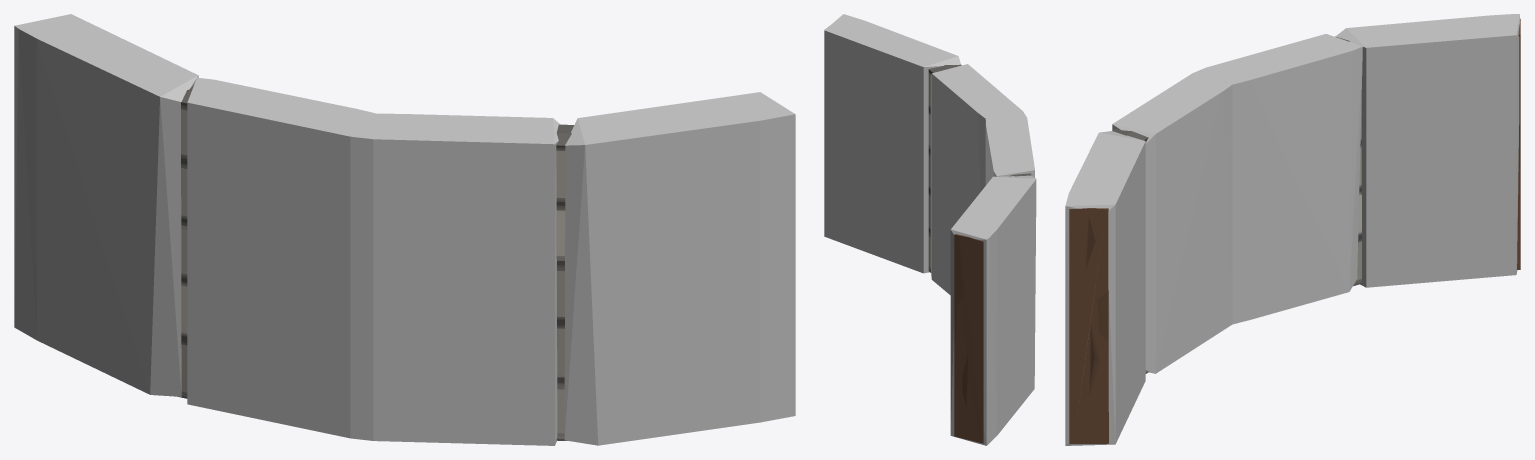
File: SM_Bld_Wall_Curved_Half_01.fbx
The picture shows the model from 3 angles, left to right: view 1: azimuth 30°, elevation 25°; view 2: azimuth 150°, elevation 25°; view 3: azimuth 270°, elevation 25°; orthographic projection. The views are drawn at different scales.
Parts seen in each view (by area): view 1: SM_Bld_Wall_Curved_Half_01_ConvexHulls, SM_Bld_Wall_Curved_Half_01; view 2: SM_Bld_Wall_Curved_Half_01_ConvexHulls, SM_Bld_Wall_Curved_Half_01; view 3: SM_Bld_Wall_Curved_Half_01_ConvexHulls, SM_Bld_Wall_Curved_Half_01.
Boxes of the visible parts, bbox=[...] form: SM_Bld_Wall_Curved_Half_01_ConvexHulls: bbox=[14, 14, 795, 445]; SM_Bld_Wall_Curved_Half_01: bbox=[178, 84, 574, 440]; SM_Bld_Wall_Curved_Half_01_ConvexHulls: bbox=[824, 14, 1036, 445]; SM_Bld_Wall_Curved_Half_01: bbox=[825, 28, 1031, 443]; SM_Bld_Wall_Curved_Half_01_ConvexHulls: bbox=[1065, 14, 1519, 445]; SM_Bld_Wall_Curved_Half_01: bbox=[1069, 18, 1520, 443].
Bounding box in the file's own units: 264 × 264 × 153.
2 materials, 1 textured.
